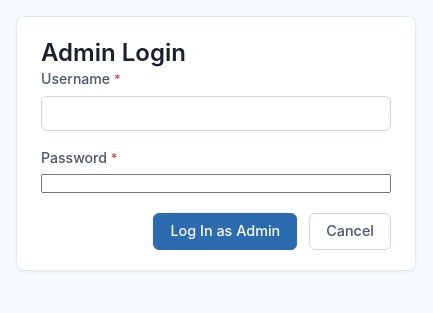
Test: LoginPage › shows error on bad credentials
In the field labelled "Username *": {"x": 216, "y": 113} [41,96,391,131], type "admin"
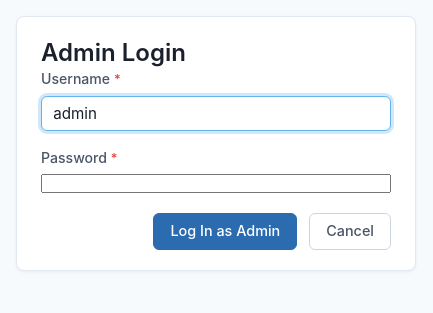
In the password field labelled "Password *": {"x": 216, "y": 184} [41,174,391,193], type "wrong"
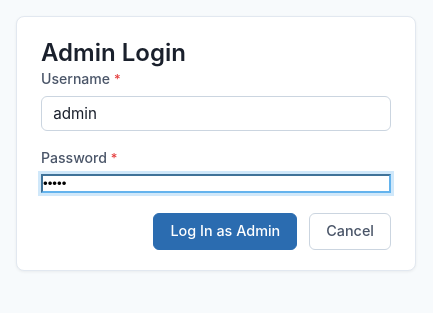
Click the button "Log In as Admin": {"x": 225, "y": 231} [153,213,297,250]
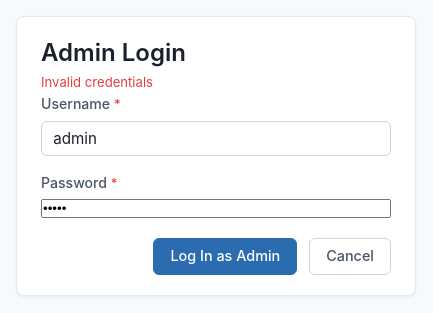
Expected: the text "Invalid credentials" is shown, [41,74,153,90]
